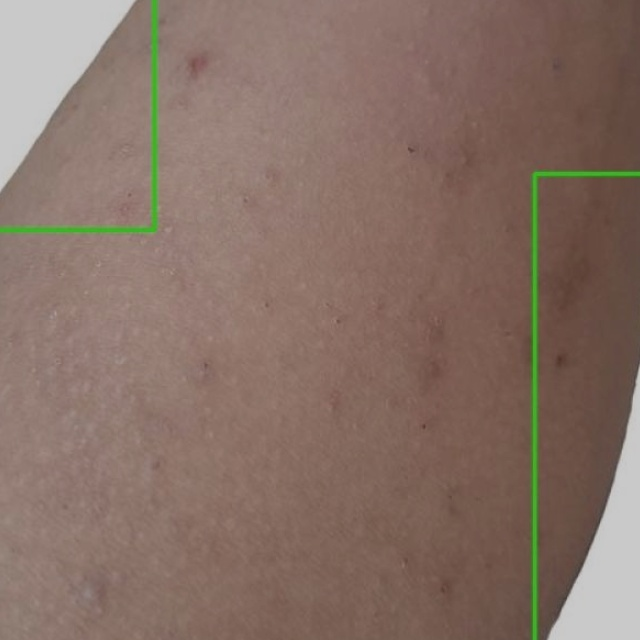Scabies: (534, 173, 639, 639), (0, 0, 155, 228)
